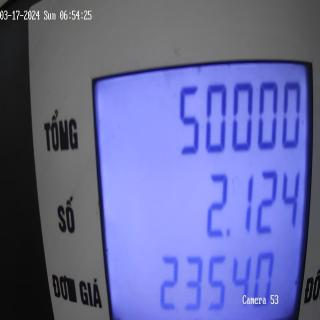screen: (88, 45, 316, 320)
